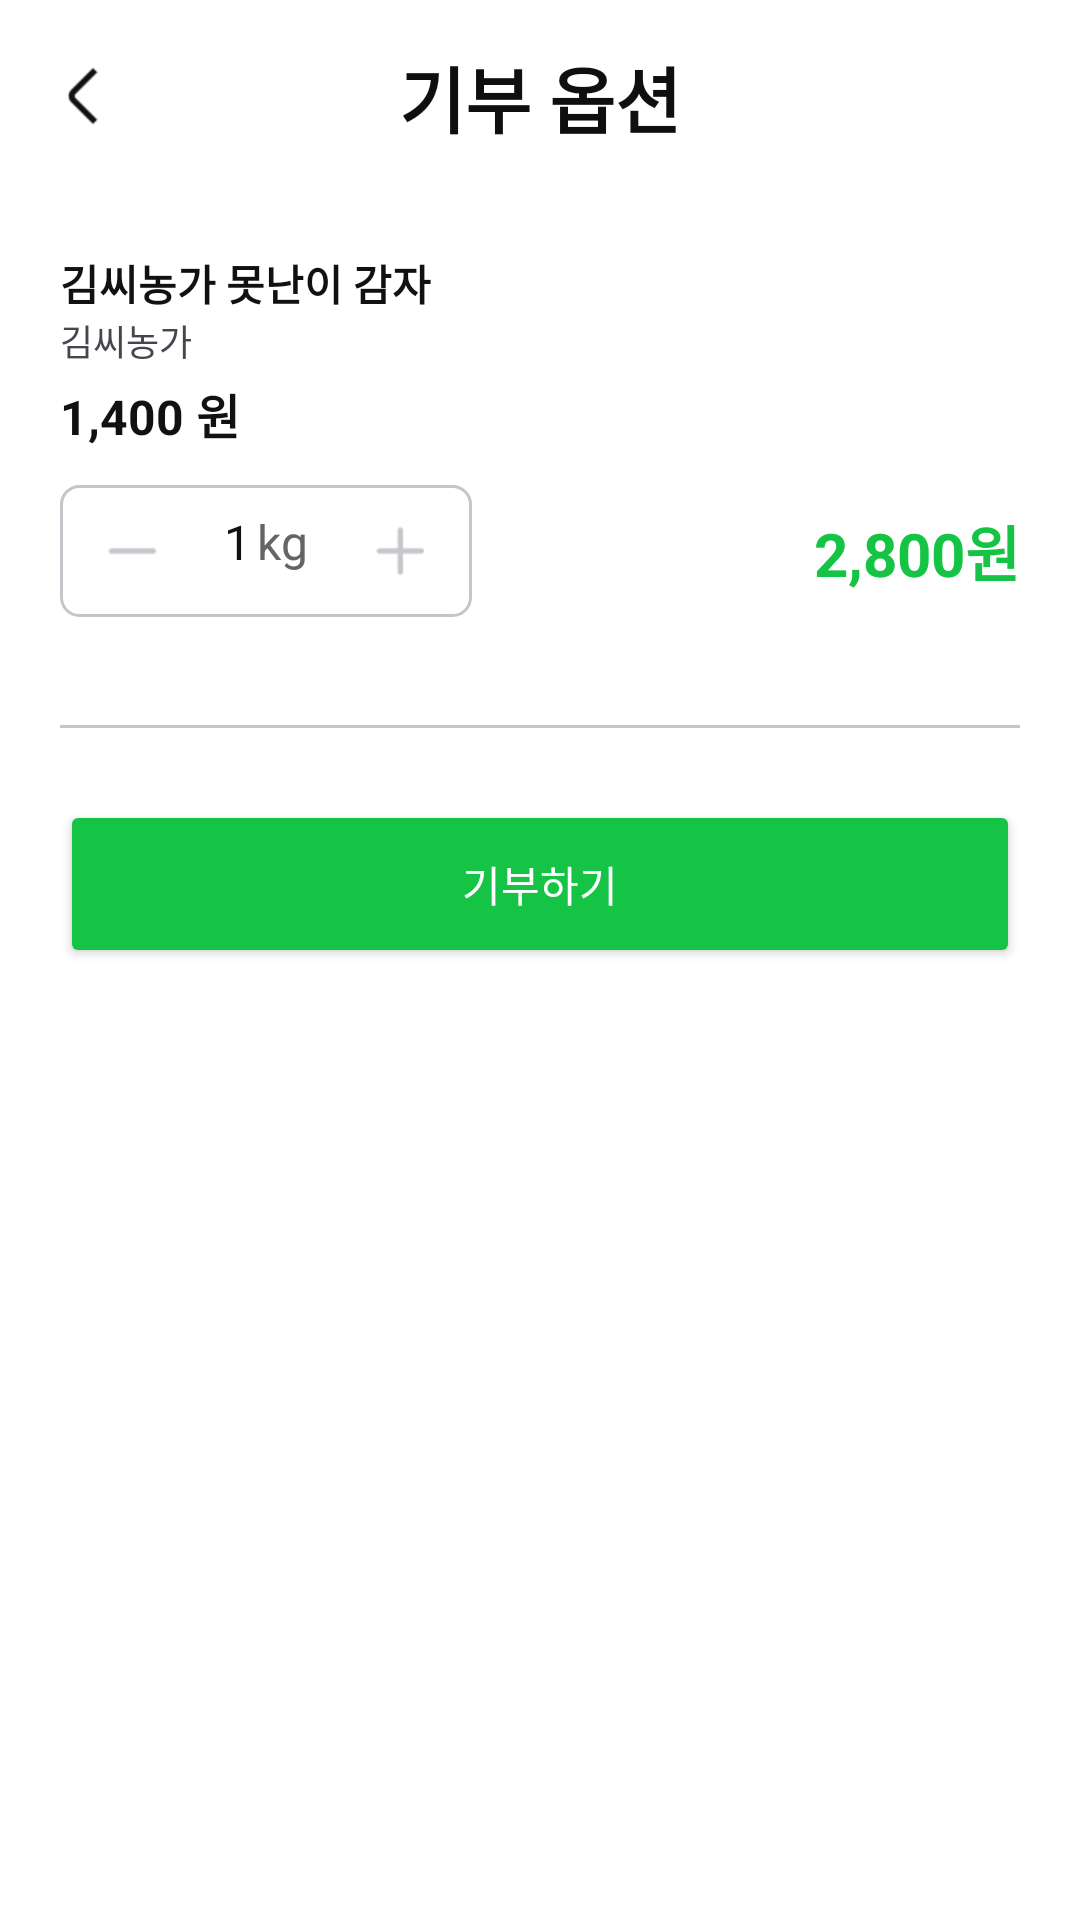

Icons on this 1080 x 1920 Android screen, each with its box as [x1,y1,x2,y2]:
back: [68,68,98,124]
plus: [377,527,424,575]
